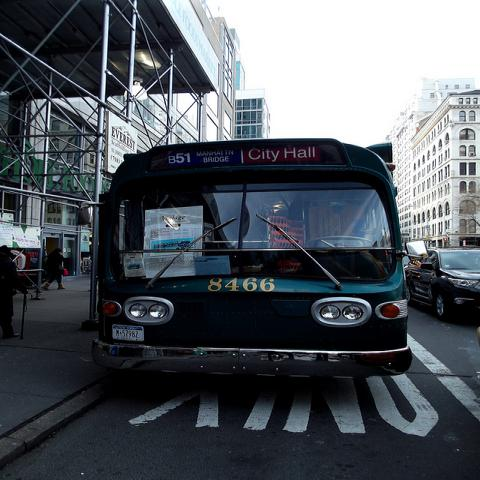bus: (92, 140, 413, 376)
car: (404, 246, 479, 321)
